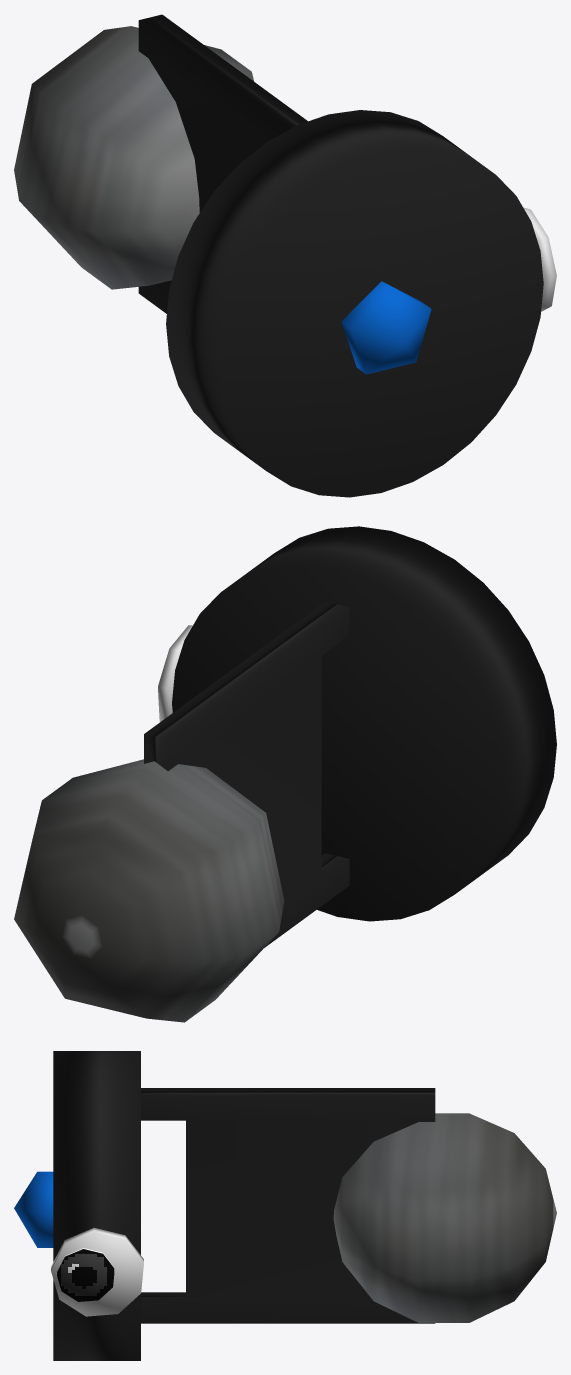
The model's file is FlowInspector.fbx.
The picture shows the model from 3 angles, top to bottom: view 1: azimuth 30°, elevation 25°; view 2: azimuth 150°, elevation 25°; view 3: azimuth 270°, elevation 25°; orthographic projection. The views are drawn at different scales.
Parts seen in each view (by area): view 1: Head, Wheel, Body, Player, EyeWhite; view 2: Head, Wheel, Body, EyeWhite; view 3: Body, Wheel, Head, EyeWhite, Retina, Player.
Boxes of the visible parts, box(x1,y1,x2,y2) form: Head: box(166, 110, 543, 497); Wheel: box(14, 26, 253, 289); Body: box(138, 14, 307, 313); Player: box(341, 281, 431, 374); EyeWhite: box(523, 207, 556, 311); Head: box(172, 526, 556, 921); Wheel: box(14, 759, 284, 1022); Body: box(144, 601, 349, 947); EyeWhite: box(158, 625, 192, 721); Body: box(141, 1088, 435, 1323); Wheel: box(333, 1113, 556, 1322); Head: box(53, 1051, 140, 1360); EyeWhite: box(51, 1227, 143, 1316); Retina: box(56, 1248, 114, 1301); Player: box(14, 1171, 53, 1247).
Bounding box in the file's own units: 0.026 × 0.0249 × 0.0436.
6 materials, 3 textured.
